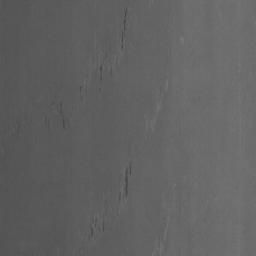Silk spot: (85, 205, 108, 240), (50, 101, 70, 130), (119, 162, 132, 203), (120, 8, 129, 53), (95, 64, 104, 82), (103, 44, 111, 64), (12, 121, 20, 137)
